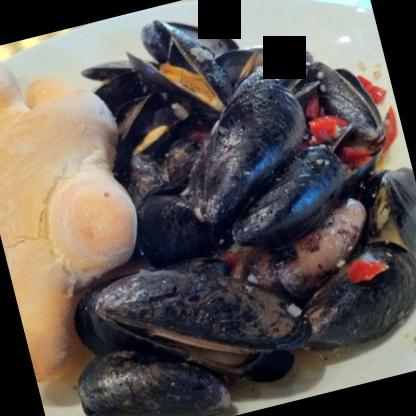mussel: (86, 236, 320, 408), (162, 76, 328, 232), (281, 237, 415, 364), (218, 138, 356, 252), (76, 321, 243, 415)
